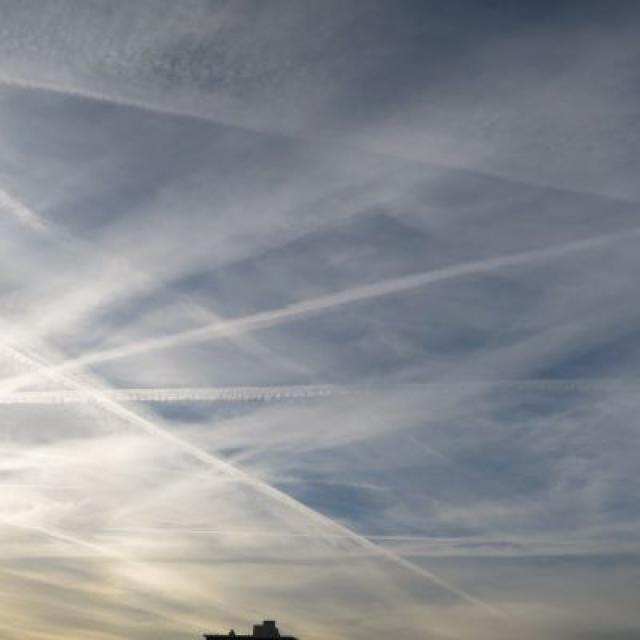Ct: (1, 12, 628, 529)
